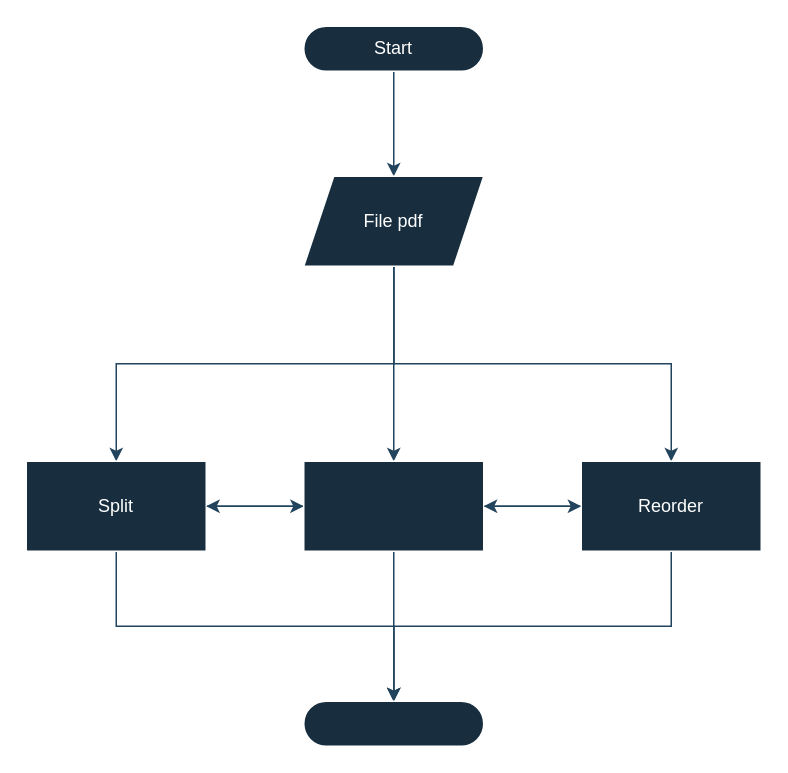
Some shapes in this 788 by 773 pixel diagram are drawn without their labels. Each missing label, with the centre of its shape:
End: point (393, 723)
Merge: point (393, 505)
